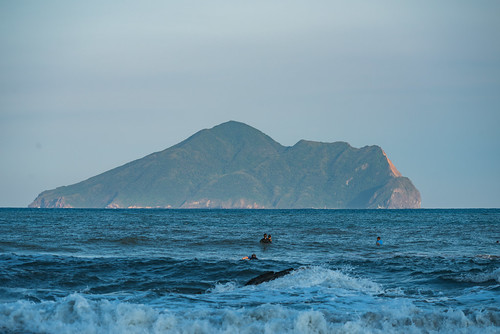turtleIsland: (19, 114, 426, 209)
